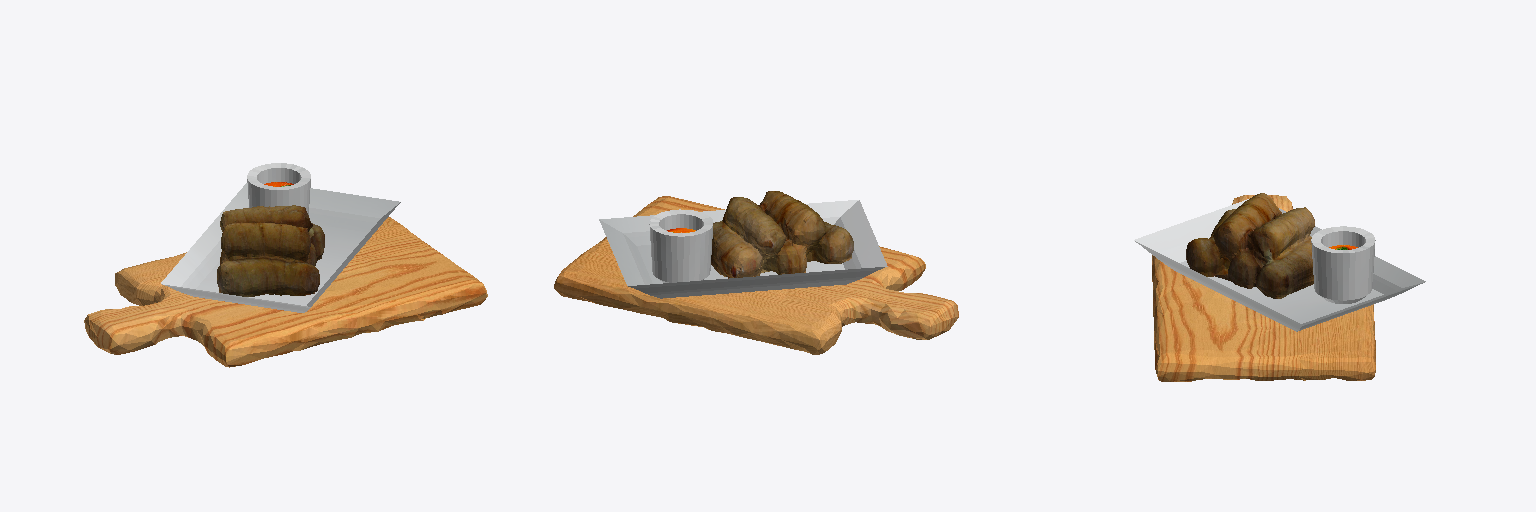
3 renders of one model, left to right at view 1: azimuth 30°, elevation 25°; view 2: azimuth 150°, elevation 25°; view 3: azimuth 270°, elevation 25°, orthographic.
Parts seen in each view (by area): view 1: Group_Global.001, Circle, Group_Global, Cylinder; view 2: Group_Global.001, Circle, Group_Global, Cylinder; view 3: Group_Global.001, Group_Global, Circle, Cylinder.
Boxes of the visible parts, x1=… form: Group_Global.001: x1=84, y1=217, x2=487, y2=367; Circle: x1=161, y1=183, x2=400, y2=312; Group_Global: x1=217, y1=205, x2=324, y2=296; Cylinder: x1=247, y1=163, x2=310, y2=214; Group_Global.001: x1=554, y1=196, x2=958, y2=354; Circle: x1=599, y1=200, x2=887, y2=298; Group_Global: x1=711, y1=191, x2=853, y2=278; Cylinder: x1=649, y1=209, x2=713, y2=282; Group_Global.001: x1=1152, y1=195, x2=1375, y2=381; Group_Global: x1=1186, y1=193, x2=1314, y2=298; Circle: x1=1134, y1=199, x2=1425, y2=331; Cylinder: x1=1311, y1=226, x2=1375, y2=303.
Bounding box in the file's own units: 0.9949 × 0.2564 × 0.7385.
4 materials, 4 textured.